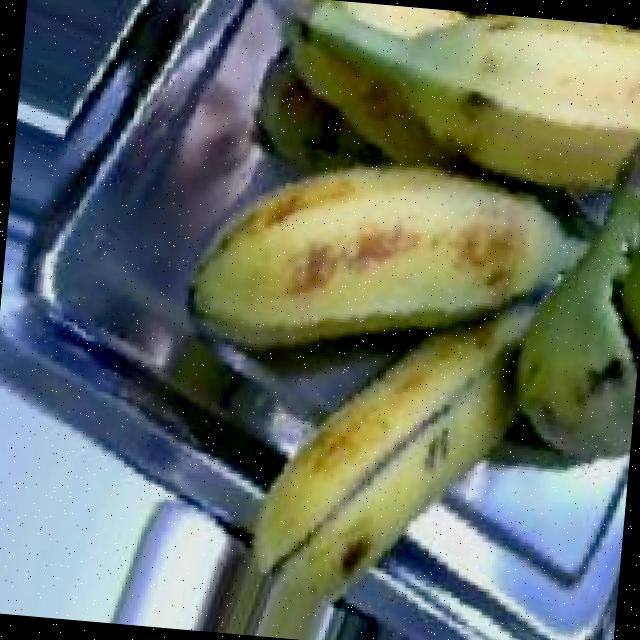banana: (166, 136, 604, 388)
